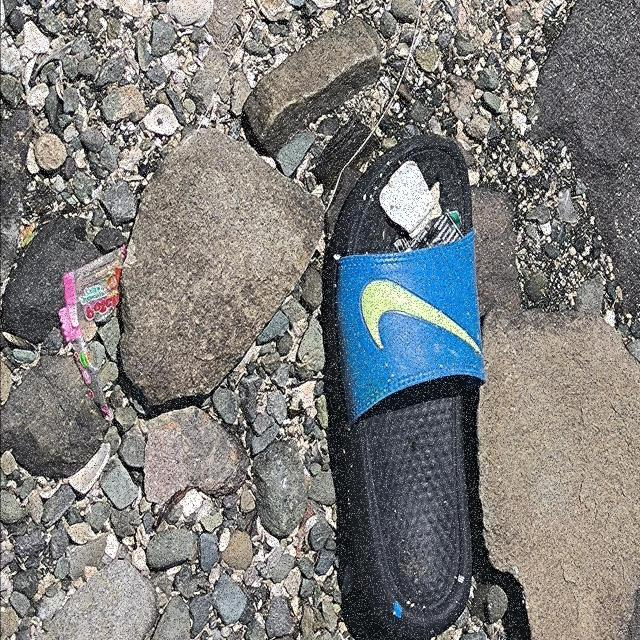plastic_waste: (58, 243, 129, 421)
rubber_waste: (321, 131, 489, 640)
